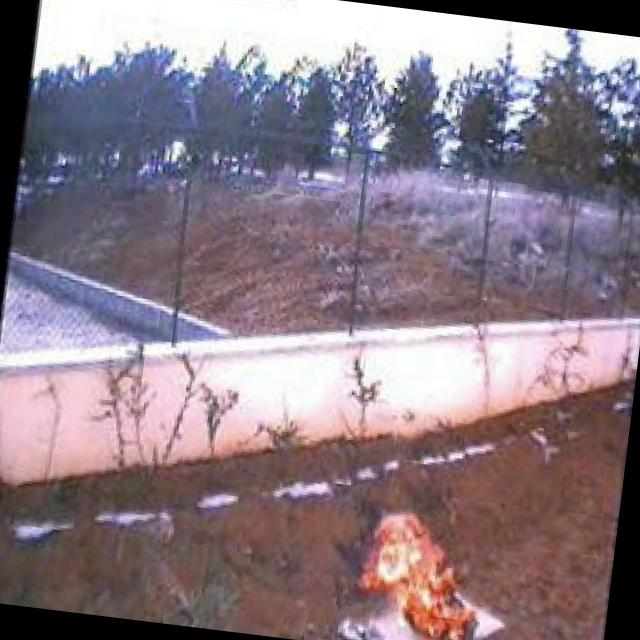Fire: (355, 509, 494, 640)
